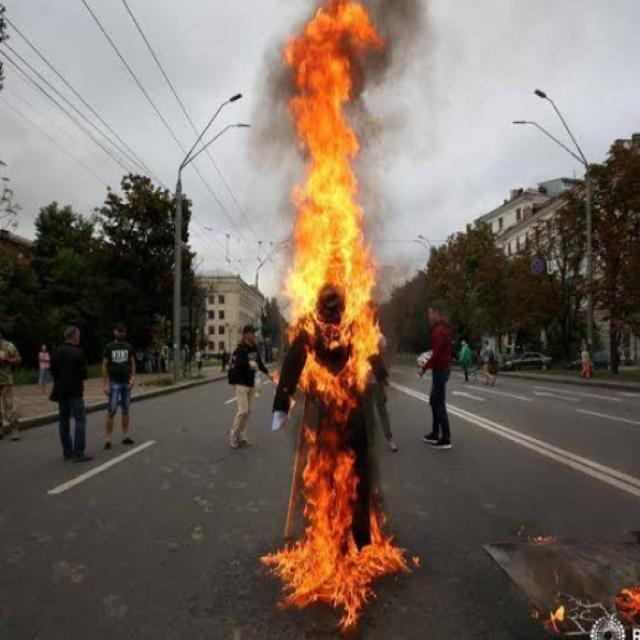fire: (285, 107, 380, 281), (260, 540, 409, 640), (288, 281, 385, 427), (282, 0, 384, 106), (303, 427, 392, 541)
